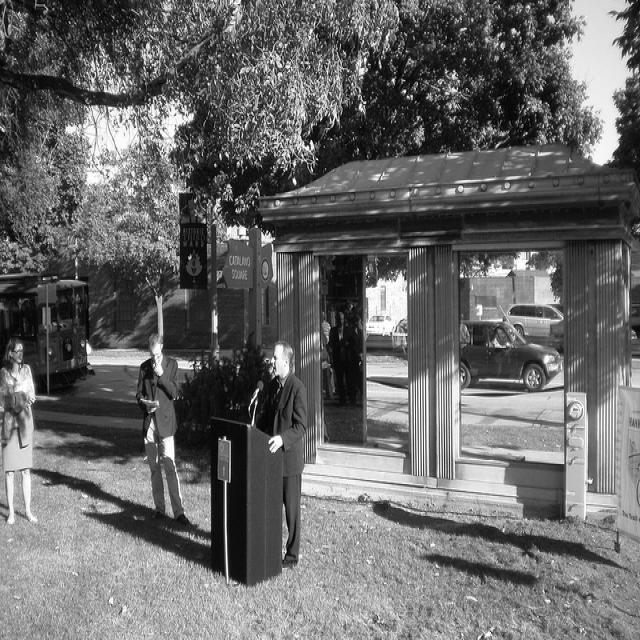monkey: (255, 341, 307, 570), (138, 334, 188, 525), (0, 342, 41, 528), (330, 312, 356, 407), (352, 313, 363, 401), (75, 293, 84, 325)
